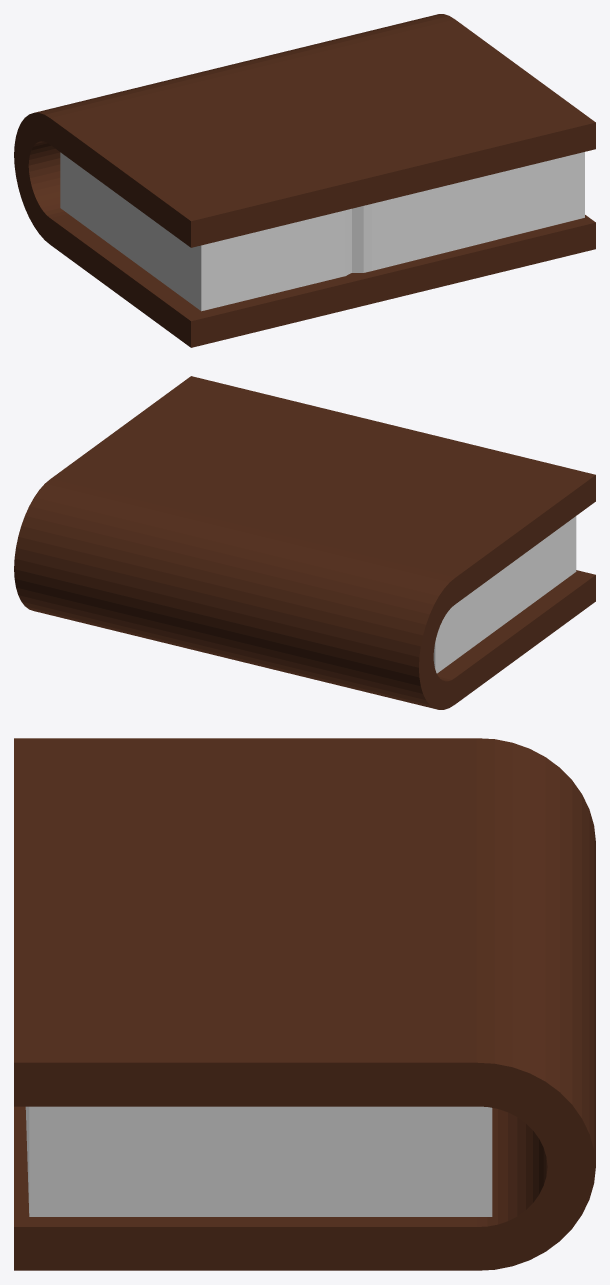
The model's file is masnnustuneboskitap.fbx.
The picture shows the model from 3 angles, top to bottom: view 1: azimuth 30°, elevation 25°; view 2: azimuth 150°, elevation 25°; view 3: azimuth 270°, elevation 25°; orthographic projection. The views are drawn at different scales.
Parts seen in each view (by area): view 1: Cube, Cube.001; view 2: Cube, Cube.001; view 3: Cube, Cube.001.
Part boxes in pixels (box(x1,y1,x2,y2)): Cube: box(14, 14, 595, 347); Cube.001: box(60, 152, 584, 311); Cube: box(14, 376, 595, 709); Cube.001: box(433, 516, 576, 673); Cube: box(14, 738, 595, 1270); Cube.001: box(25, 1106, 492, 1216).
Size of the model in its own units: 392 by 117 by 297.
